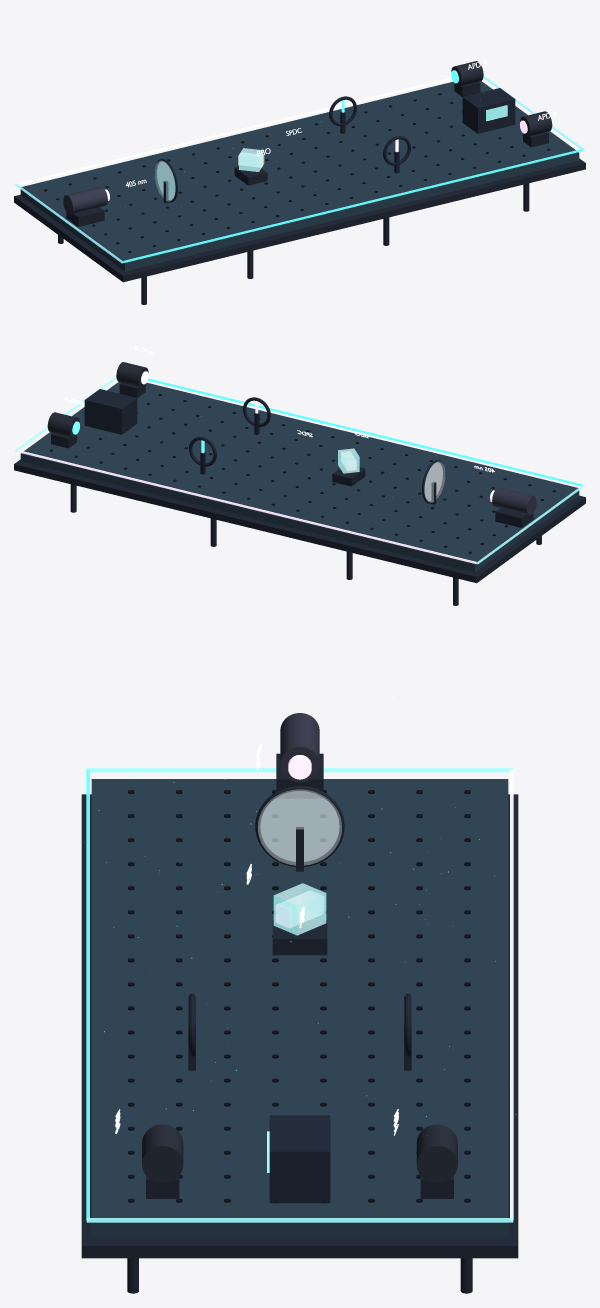
The picture shows the model from 3 angles, top to bottom: view 1: azimuth 30°, elevation 25°; view 2: azimuth 150°, elevation 25°; view 3: azimuth 270°, elevation 25°; orthographic projection. The views are drawn at different scales.
Parts seen in each view (by area): view 1: perforated_metal_optical_table, table_base_shadow, coincidence_counter_module, table_front_cyan_edge, table_back_purple_edge, laser_body_405nm, lens_glass, APD-B, APD-A, laser_mount, BBO_crystal, BBO_mount (+1 smaller); view 2: perforated_metal_optical_table, table_base_shadow, coincidence_counter_module, table_back_purple_edge, table_front_cyan_edge, laser_body_405nm, lens_glass, APD-A, APD-B, laser_mount, BBO_crystal, BBO_mount (+1 smaller); view 3: perforated_metal_optical_table, table_base_shadow, coincidence_counter_module, lens_glass, BBO_crystal, APD-A, APD-B, table_right_blue_edge, laser_body_405nm, table_left_blue_edge, BBO_mount, table_front_cyan_edge (+4 smaller).
Part boxes in pixels (x1=…): perforated_metal_optical_table: x1=20, y1=81, x2=579, y2=271; table_base_shadow: x1=14, y1=158, x2=585, y2=282; coincidence_counter_module: x1=462, y1=88, x2=515, y2=133; table_front_cyan_edge: x1=123, y1=149, x2=582, y2=262; table_back_purple_edge: x1=17, y1=77, x2=451, y2=185; laser_body_405nm: x1=63, y1=186, x2=107, y2=214; lens_glass: x1=154, y1=160, x2=175, y2=201; APD-B: x1=520, y1=111, x2=552, y2=136; APD-A: x1=451, y1=61, x2=483, y2=86; laser_mount: x1=66, y1=207, x2=104, y2=226; BBO_crystal: x1=239, y1=148, x2=263, y2=171; BBO_mount: x1=234, y1=166, x2=267, y2=185; perforated_metal_optical_table: x1=20, y1=382, x2=579, y2=572; table_base_shadow: x1=14, y1=459, x2=585, y2=583; coincidence_counter_module: x1=84, y1=389, x2=137, y2=434; table_back_purple_edge: x1=17, y1=450, x2=476, y2=563; table_front_cyan_edge: x1=148, y1=378, x2=582, y2=486; laser_body_405nm: x1=492, y1=487, x2=536, y2=515; lens_glass: x1=424, y1=461, x2=444, y2=502; APD-A: x1=47, y1=412, x2=79, y2=437; APD-B: x1=116, y1=362, x2=148, y2=387; laser_mount: x1=495, y1=508, x2=533, y2=527; BBO_crystal: x1=338, y1=448, x2=359, y2=473; BBO_mount: x1=332, y1=466, x2=365, y2=486; perforated_metal_optical_table: x1=91, y1=779, x2=508, y2=1238; table_base_shadow: x1=81, y1=794, x2=518, y2=1258; coincidence_counter_module: x1=269, y1=1115, x2=330, y2=1203; lens_glass: x1=258, y1=789, x2=341, y2=865; BBO_crystal: x1=273, y1=883, x2=326, y2=935; APD-A: x1=416, y1=1124, x2=457, y2=1183; APD-B: x1=142, y1=1124, x2=183, y2=1183; table_right_blue_edge: x1=86, y1=1218, x2=513, y2=1222; laser_body_405nm: x1=280, y1=713, x2=319, y2=782; table_left_blue_edge: x1=86, y1=768, x2=513, y2=772; BBO_mount: x1=272, y1=920, x2=327, y2=955; table_front_cyan_edge: x1=86, y1=770, x2=89, y2=1220.
Size of what is drawn, in the model's own units: 10.91 by 3.45 by 4.45.
